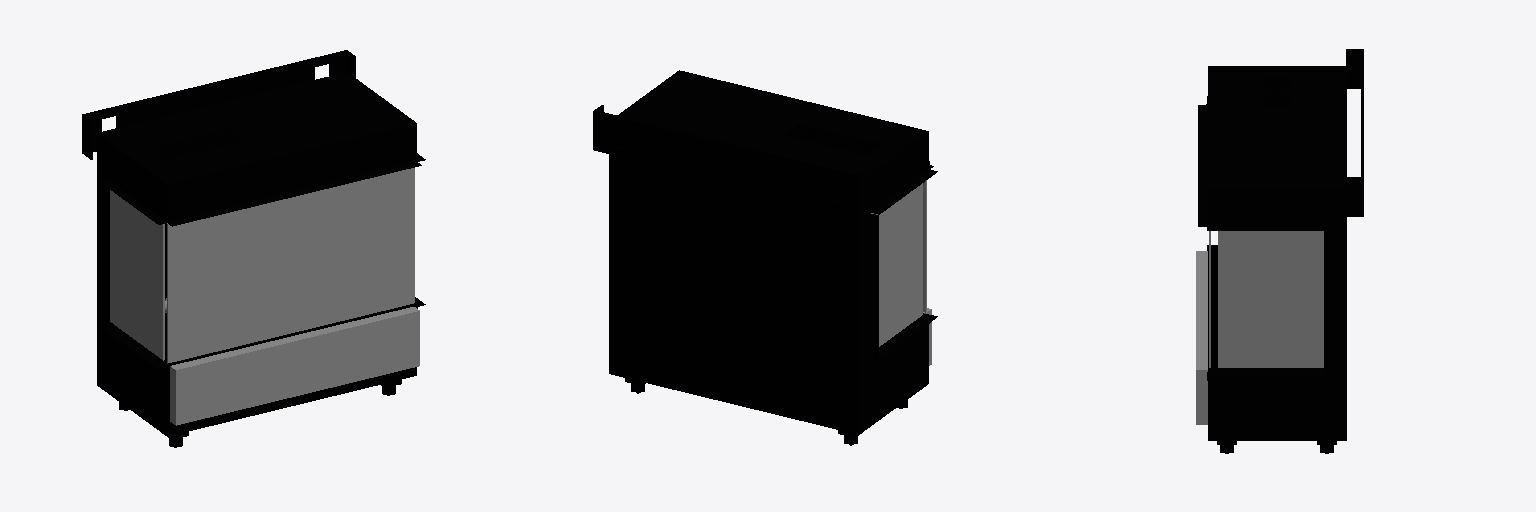
The model's file is Bingham.obj.
The picture shows the model from 3 angles: view 1: azimuth 30°, elevation 25°; view 2: azimuth 150°, elevation 25°; view 3: azimuth 270°, elevation 25°; orthographic projection.
Parts seen in each view (by area): view 1: Line01, Plane06, Box02, Plane07, Rectangle01, Line04, Line08, Line03, Line06; view 2: Line01, Rectangle01, Plane07, Line08, Line03; view 3: Line01, Plane08, Box02, Rectangle01, Line02, Line07, Line04, Line05.
Boxes of the visible parts, x1=… form: Line01: x1=97, y1=72, x2=416, y2=436; Plane06: x1=167, y1=168, x2=414, y2=363; Box02: x1=170, y1=307, x2=419, y2=425; Plane07: x1=110, y1=190, x2=164, y2=360; Rectangle01: x1=82, y1=50, x2=355, y2=159; Line04: x1=167, y1=153, x2=421, y2=226; Line08: x1=100, y1=178, x2=107, y2=326; Line03: x1=101, y1=172, x2=166, y2=224; Line06: x1=101, y1=325, x2=166, y2=376; Line01: x1=609, y1=70, x2=928, y2=434; Rectangle01: x1=593, y1=105, x2=866, y2=214; Plane07: x1=871, y1=183, x2=922, y2=346; Line08: x1=866, y1=214, x2=878, y2=360; Line03: x1=871, y1=161, x2=937, y2=214; Line01: x1=1208, y1=66, x2=1346, y2=440; Plane08: x1=1218, y1=231, x2=1323, y2=367; Box02: x1=1196, y1=251, x2=1207, y2=424; Rectangle01: x1=1346, y1=49, x2=1363, y2=216; Line02: x1=1207, y1=218, x2=1323, y2=230; Line07: x1=1324, y1=228, x2=1333, y2=375; Line04: x1=1198, y1=96, x2=1207, y2=226; Line05: x1=1207, y1=372, x2=1323, y2=380.
Bounding box in the file's own units: 30.8 × 31.56 × 16.71.